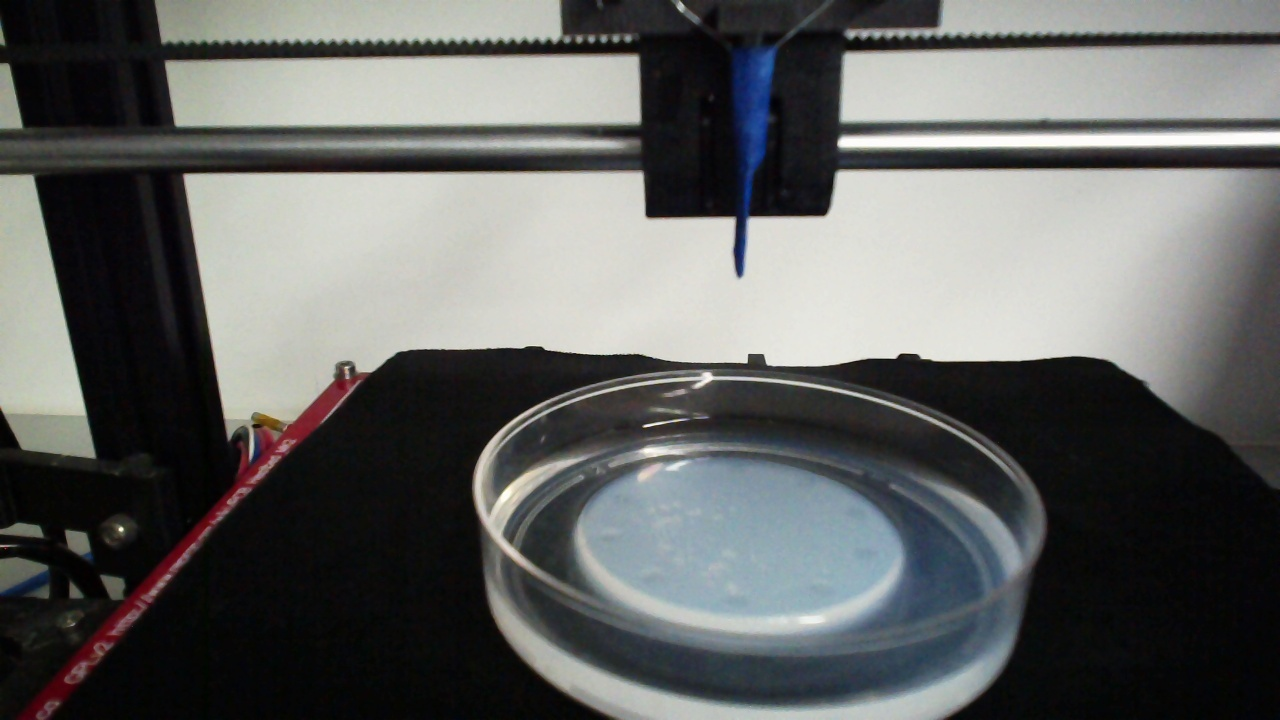groove: (718, 589, 754, 613), (635, 564, 669, 589), (804, 577, 838, 601), (840, 502, 874, 526), (595, 525, 626, 548), (849, 542, 881, 563), (607, 487, 634, 510), (791, 472, 820, 493)
needle: (733, 51, 775, 277)
